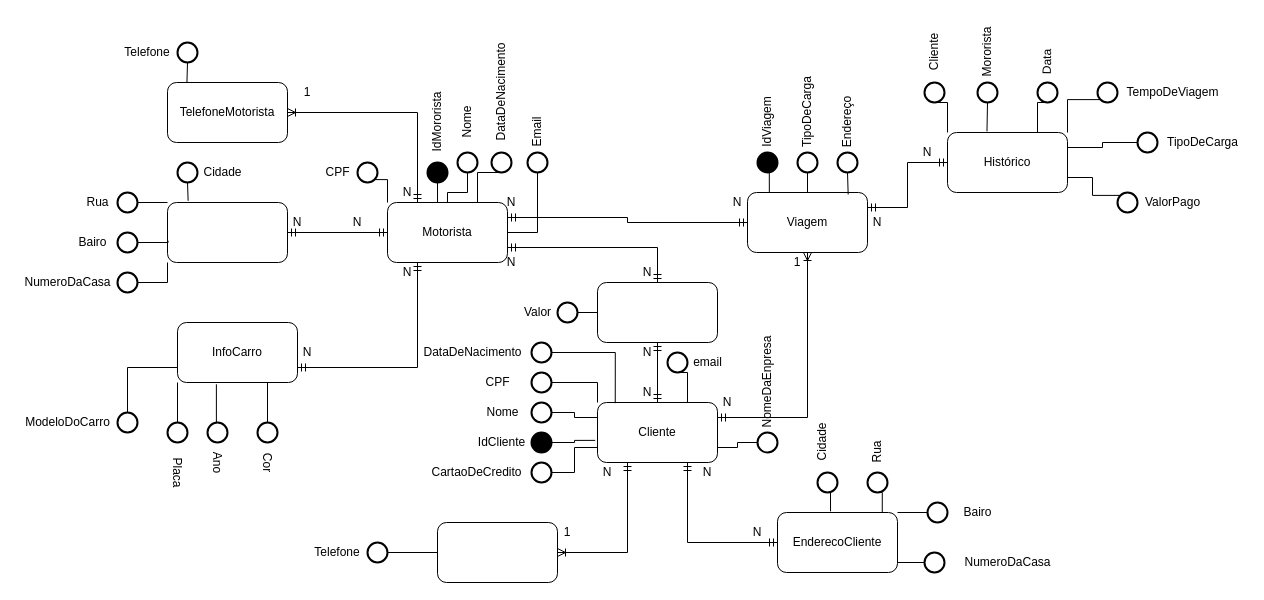
The diagram is 1264 pixels wide and 600 high, and some of its shapes have lost their labels. Here are the shapes that lost their labels. From the top down, the centre of each, then its label:
the point at 227,232: Endereço motorista
the point at 657,312: Pagamento
the point at 497,552: TelefoneCliente
